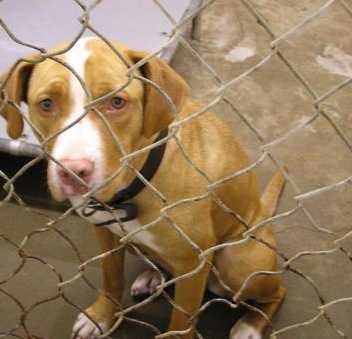dog: (0, 42, 273, 298)
